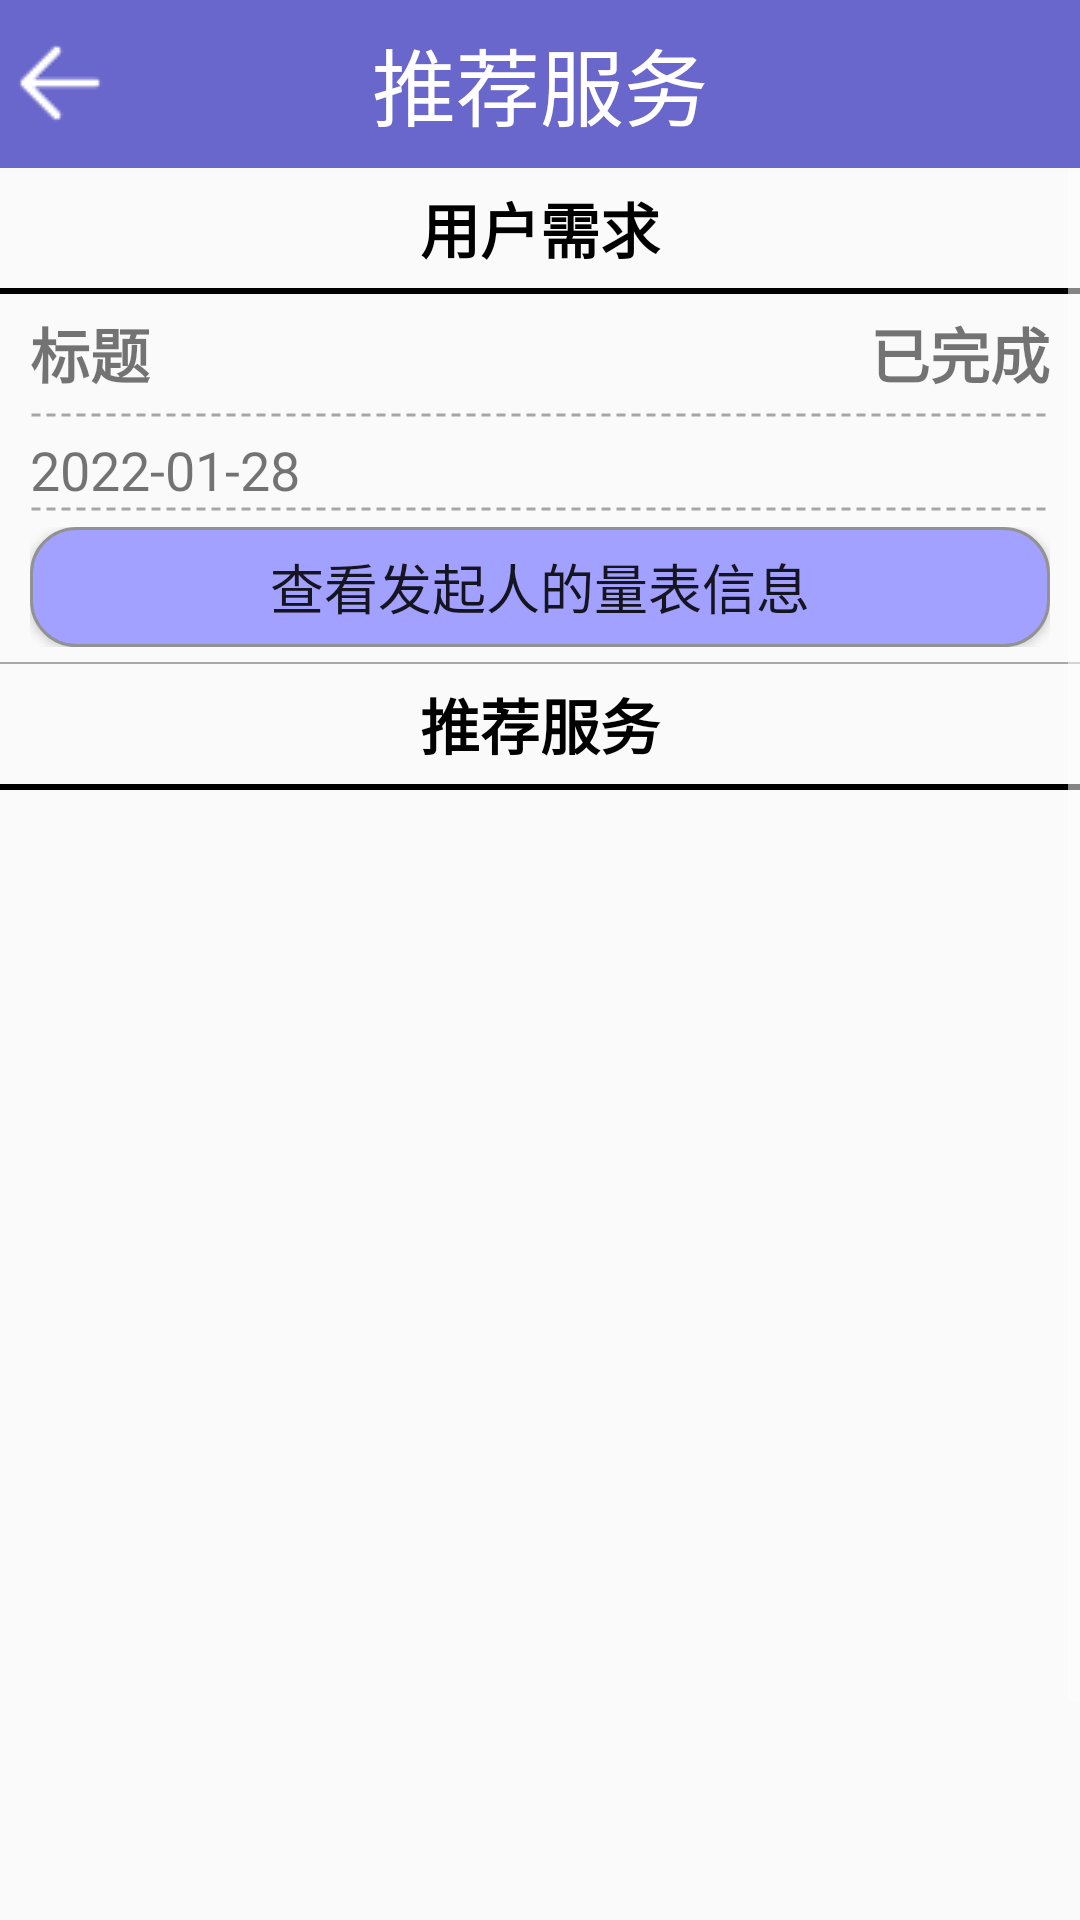

Icons on this 1080px×1920px Android screen, each with its box as (x1, y1, x2, y2):
back: (20, 46, 100, 120)
